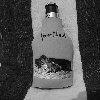beer: (30, 3, 74, 86)
